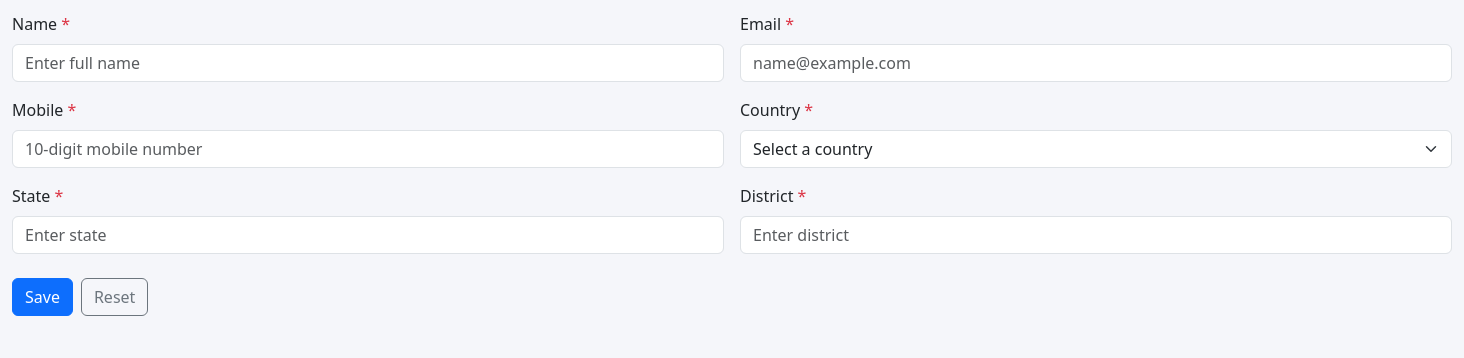
Test: EmployeeForm › shows an email validation error for an invalid address
This screenshot has width=1464, height=358.
In the field labelled "Email *": (1096, 63) [740,44,1452,82], type "john@"
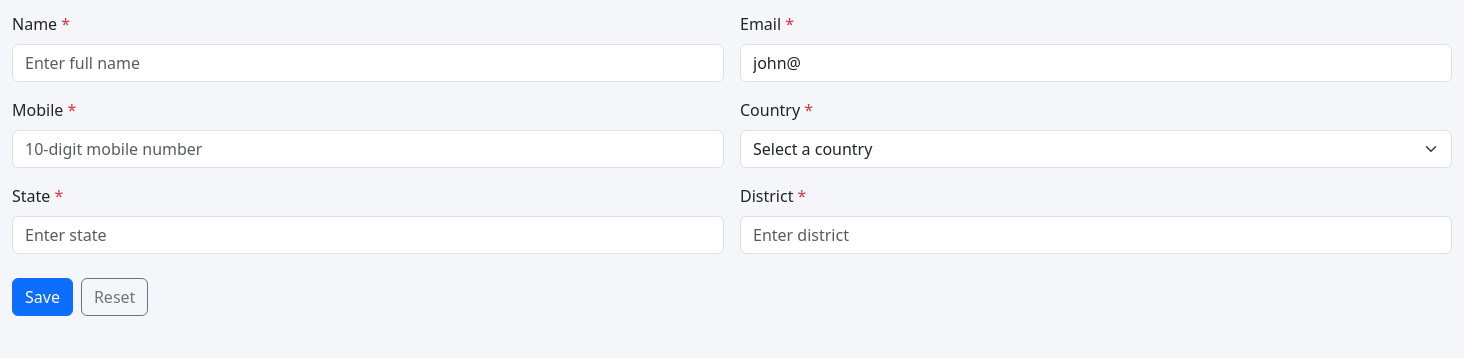
Leave the field labelled "Email *", box [740,44,1452,82]
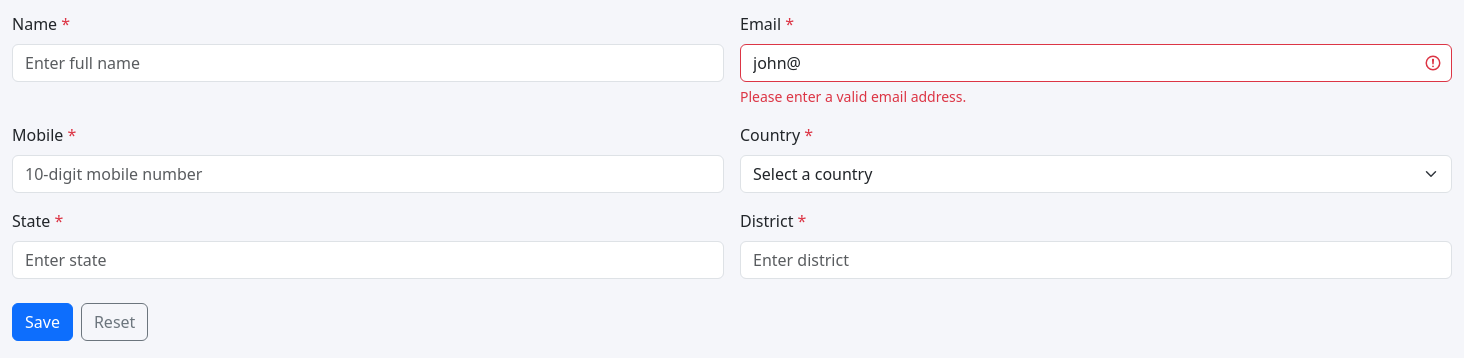
Expected: the text "Please enter a valid email address." is shown, [740,87,966,106]
